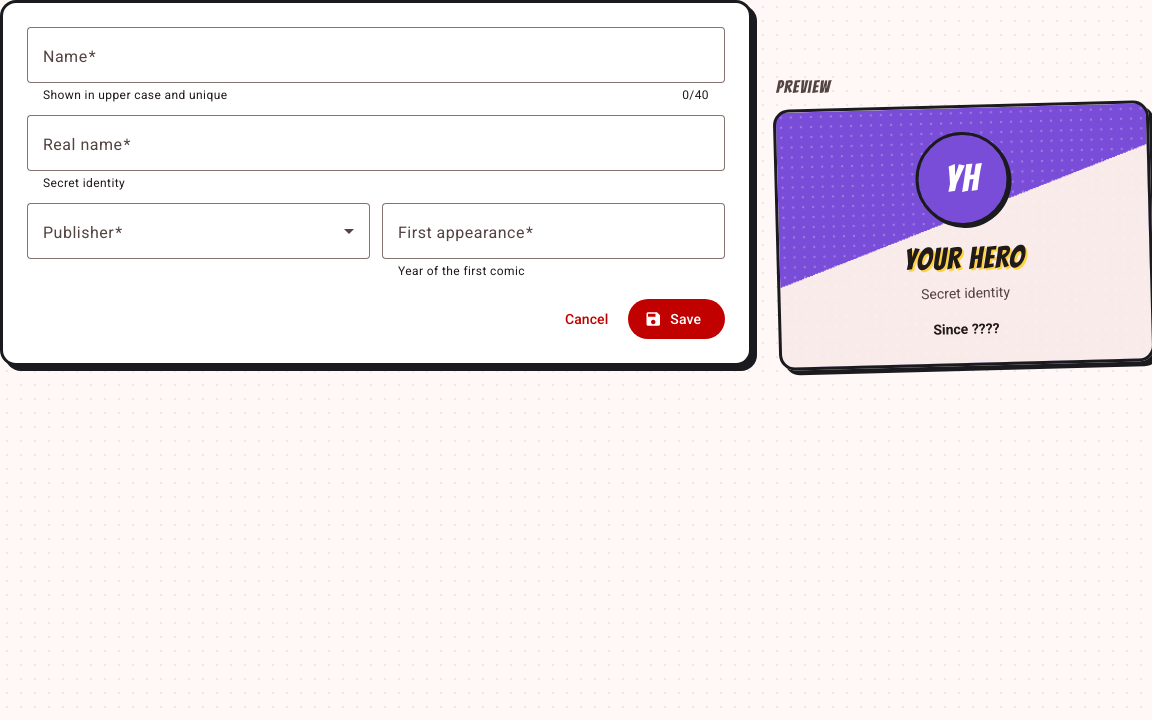
Test: HeroFormComponent › validates the name length and the first appearance year
The width and height of the screenshot is (1152, 720).
Type "x" into the field labelled "Name". click: (376, 55)
box: [43, 43, 709, 67]
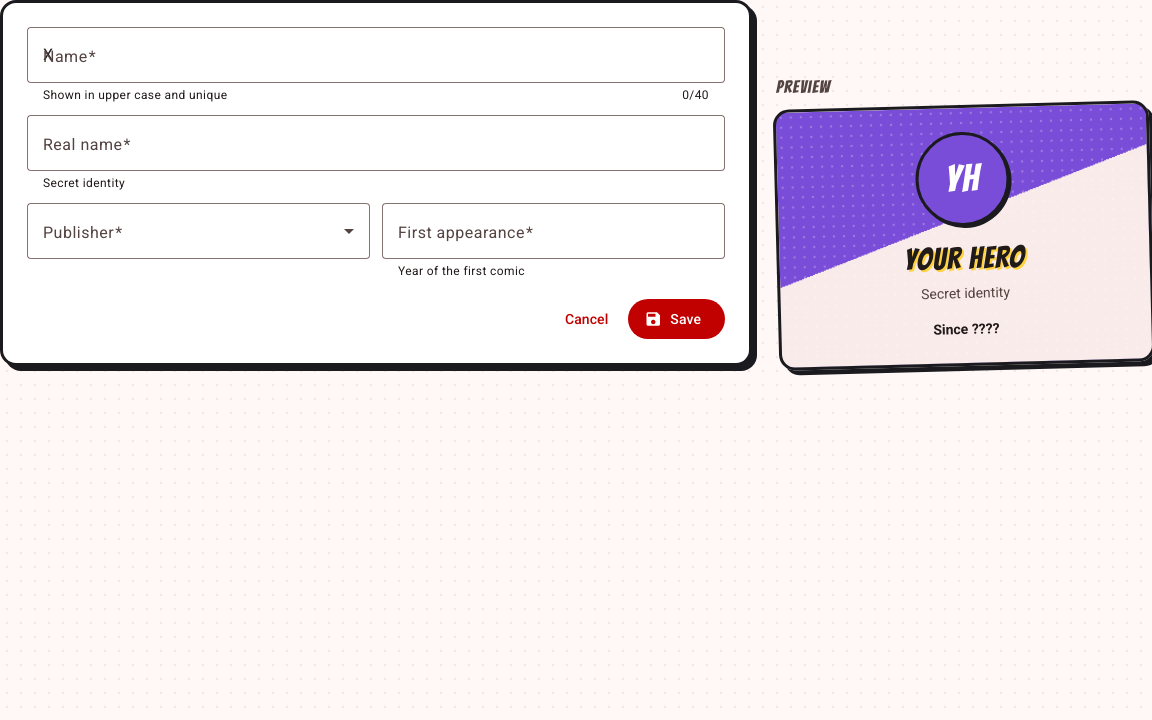
Type "1800" into the number field labelled "First appearance". click: (554, 231)
box: [398, 219, 709, 243]
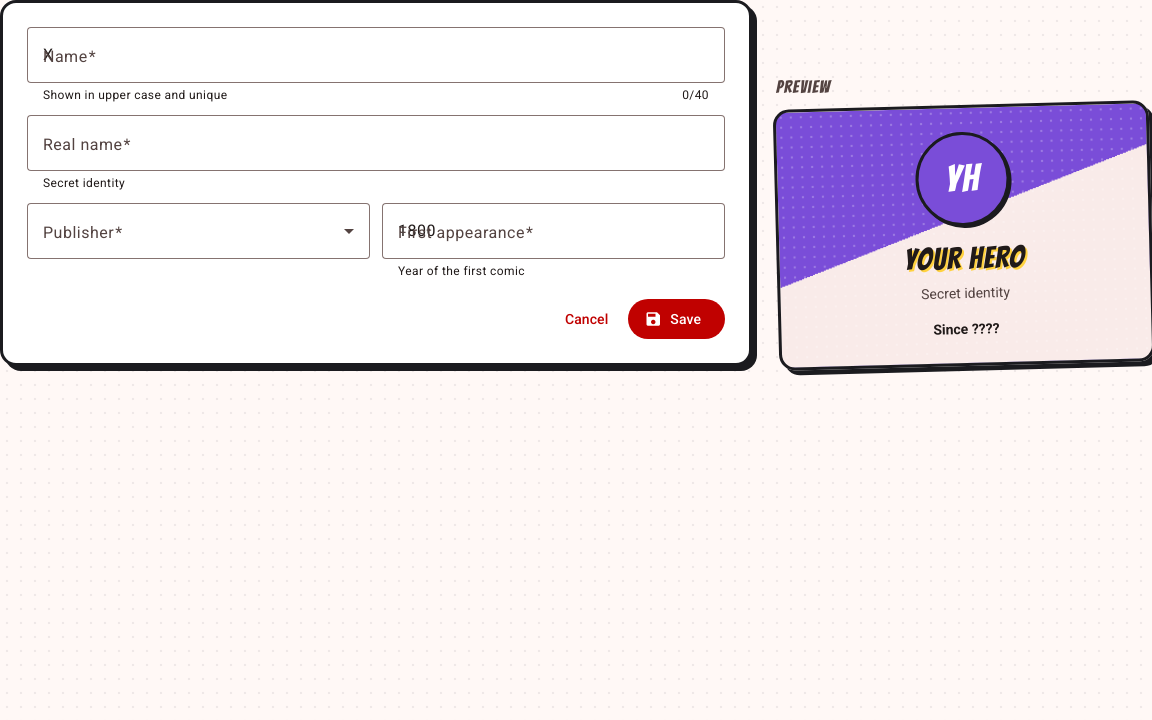
Submit the form, box [0, 0, 752, 366]
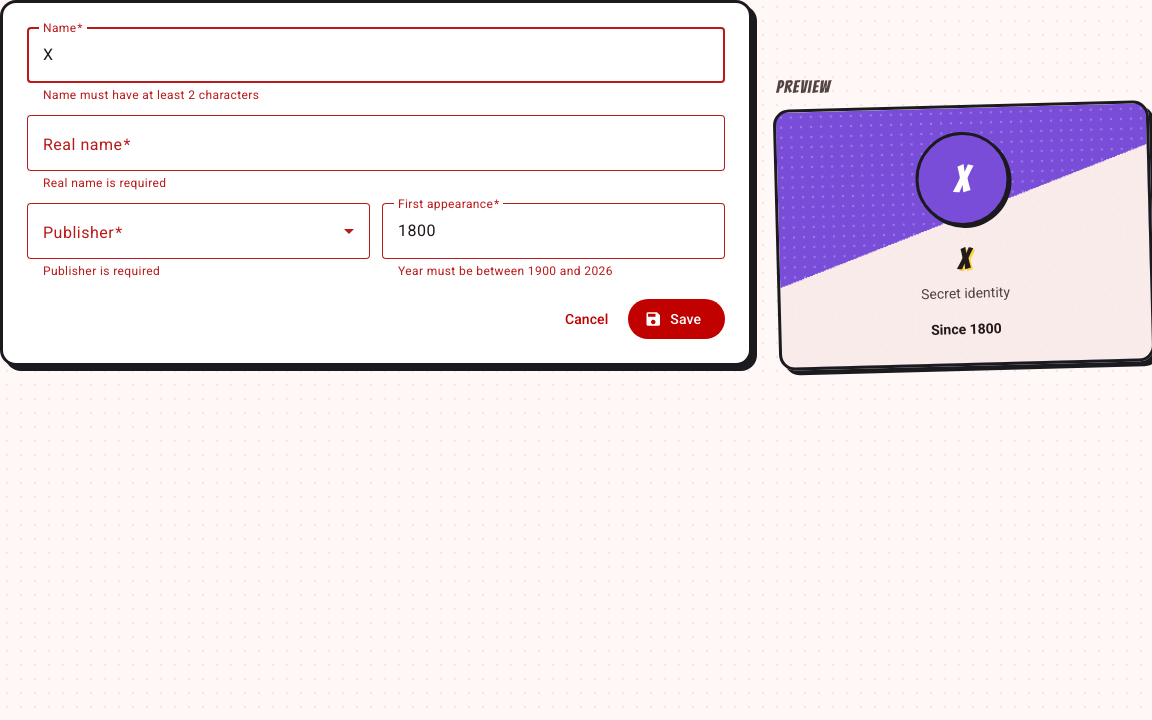
Expected: the text "Name must have at least 2 characters" is shown, [43, 88, 259, 102]
